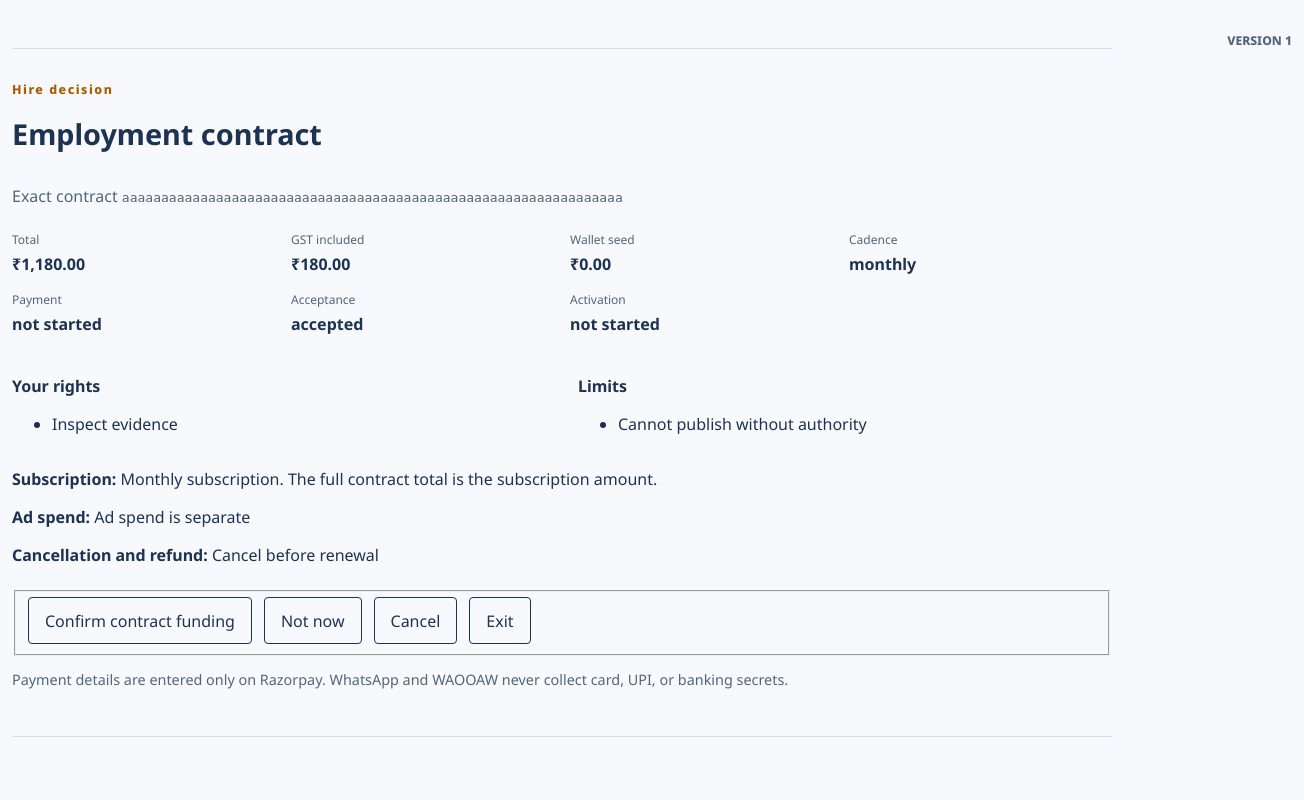
ContractJourney Razorpay Standard Checkout › activates a fully discounted contract with its commercial evidence
Click the button "Confirm contract funding" at (140, 621), box [28,597,252,644]
(page scrolled)
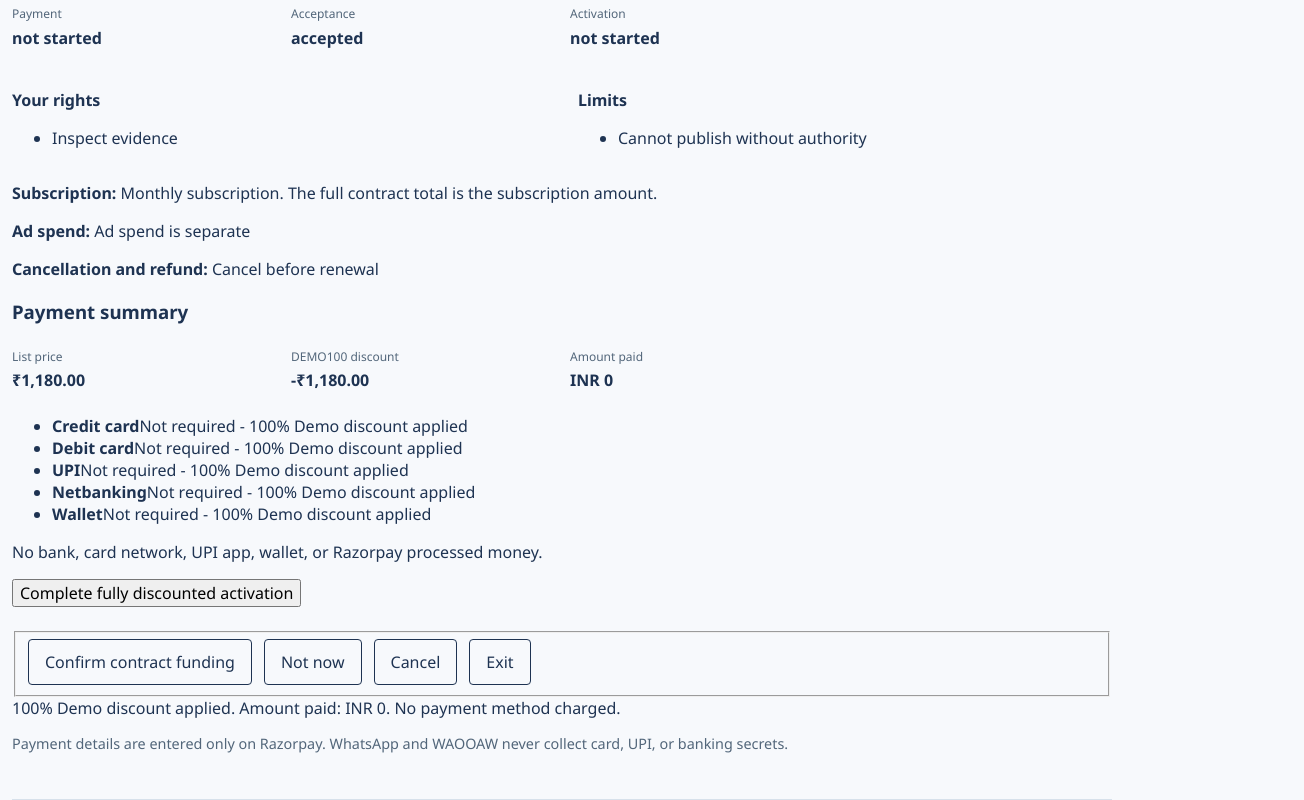
Check: the text "100% Demo discount applied. Amount paid: INR 0. No payment method charged." is shown, box [12,697,620,719]
Click the button "Complete fully discounted activation" at (157, 593), box [12,579,301,607]
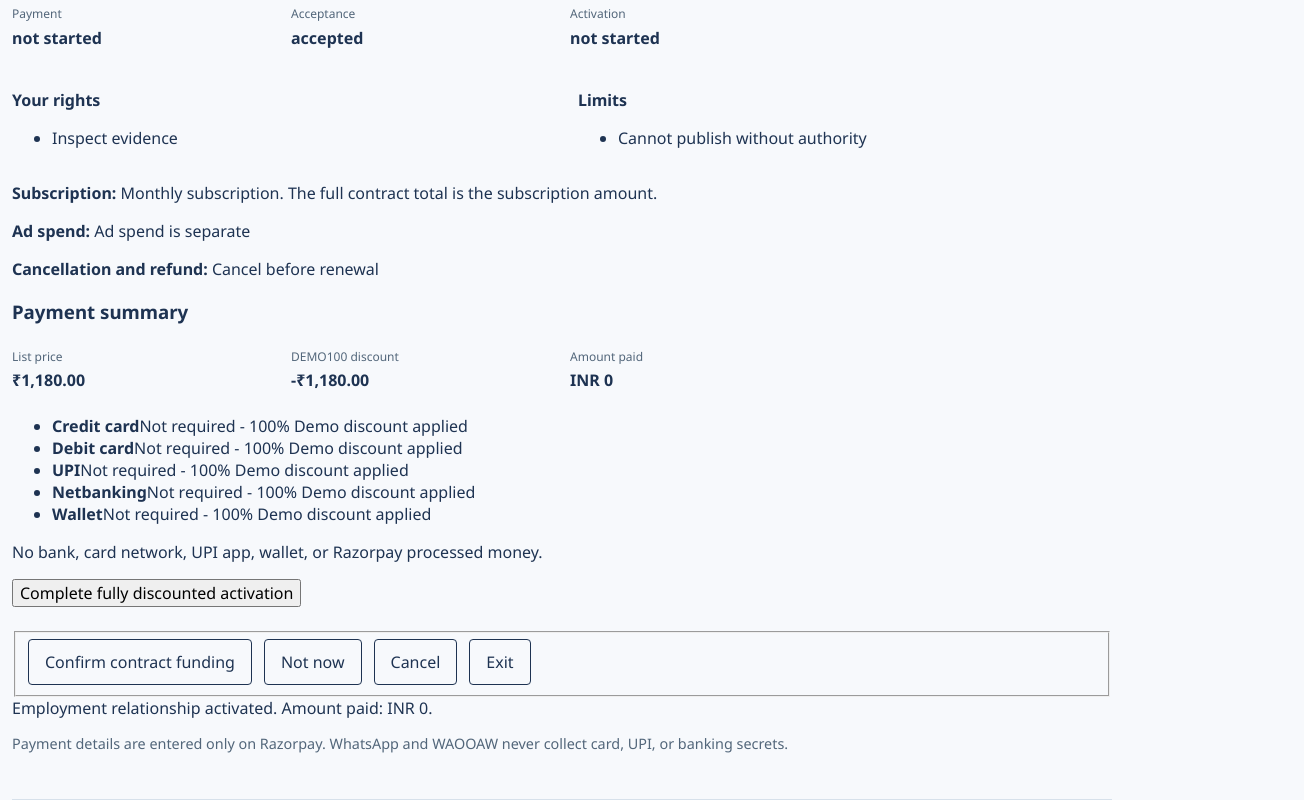
Check: the text "Employment relationship activated. Amount paid: INR 0." is shown, box [12,697,432,719]
